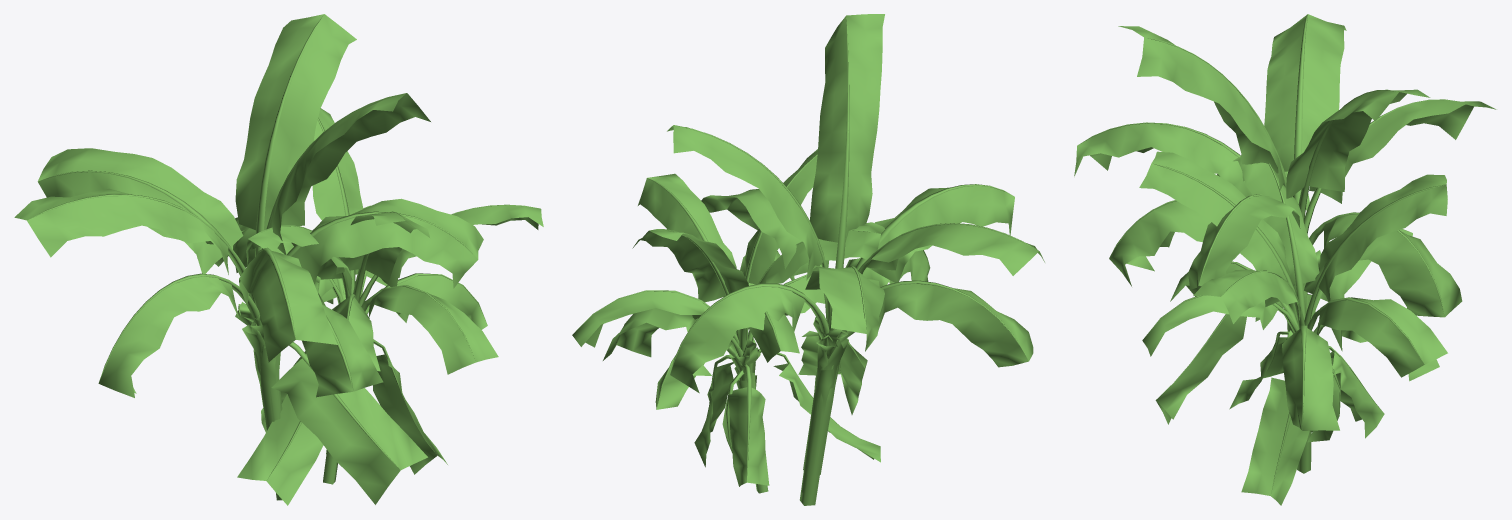
Rendered from banana_tree.glb.
3 renders of one model, left to right at view 1: azimuth 30°, elevation 25°; view 2: azimuth 150°, elevation 25°; view 3: azimuth 270°, elevation 25°, orthographic. The views are drawn at different scales.
Visible parts, largest first — view 1: BananaTree; view 2: BananaTree; view 3: BananaTree.
Part boxes in pixels (left/top/right/bottom): BananaTree: left=14, top=14, right=543, bottom=505; BananaTree: left=572, top=14, right=1044, bottom=505; BananaTree: left=1074, top=14, right=1496, bottom=505.
Size of the model in its own units: 2.97 by 2.74 by 2.43.
